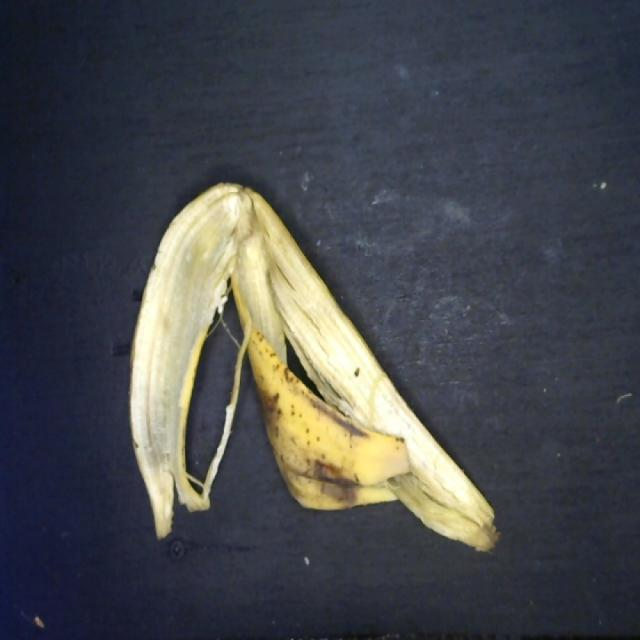biodegradable: (126, 182, 505, 557)
